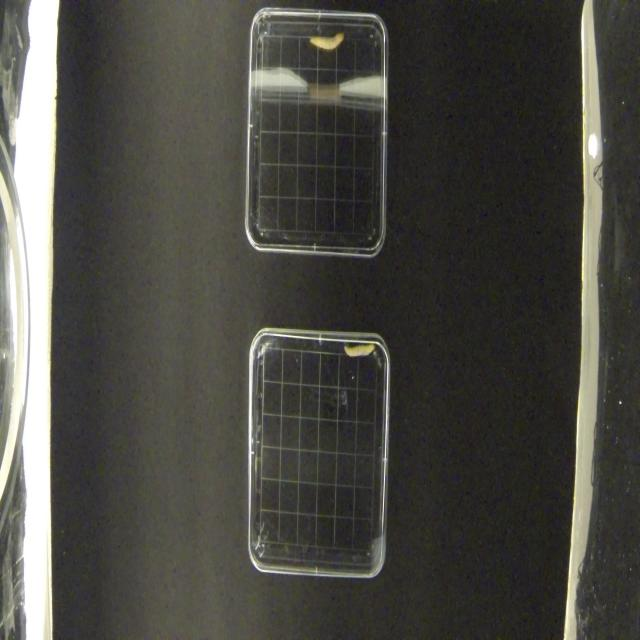larva: (309, 29, 349, 52), (344, 344, 376, 359)
